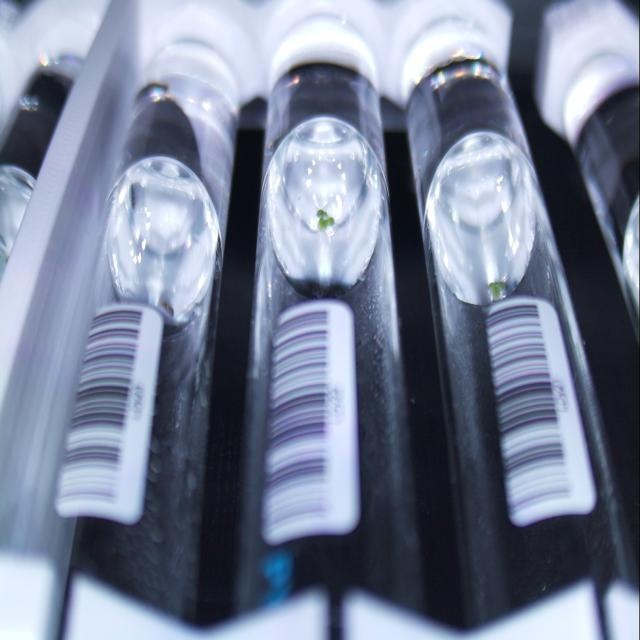Lemna-Gibba: (316, 208, 335, 230), (489, 280, 506, 299)
